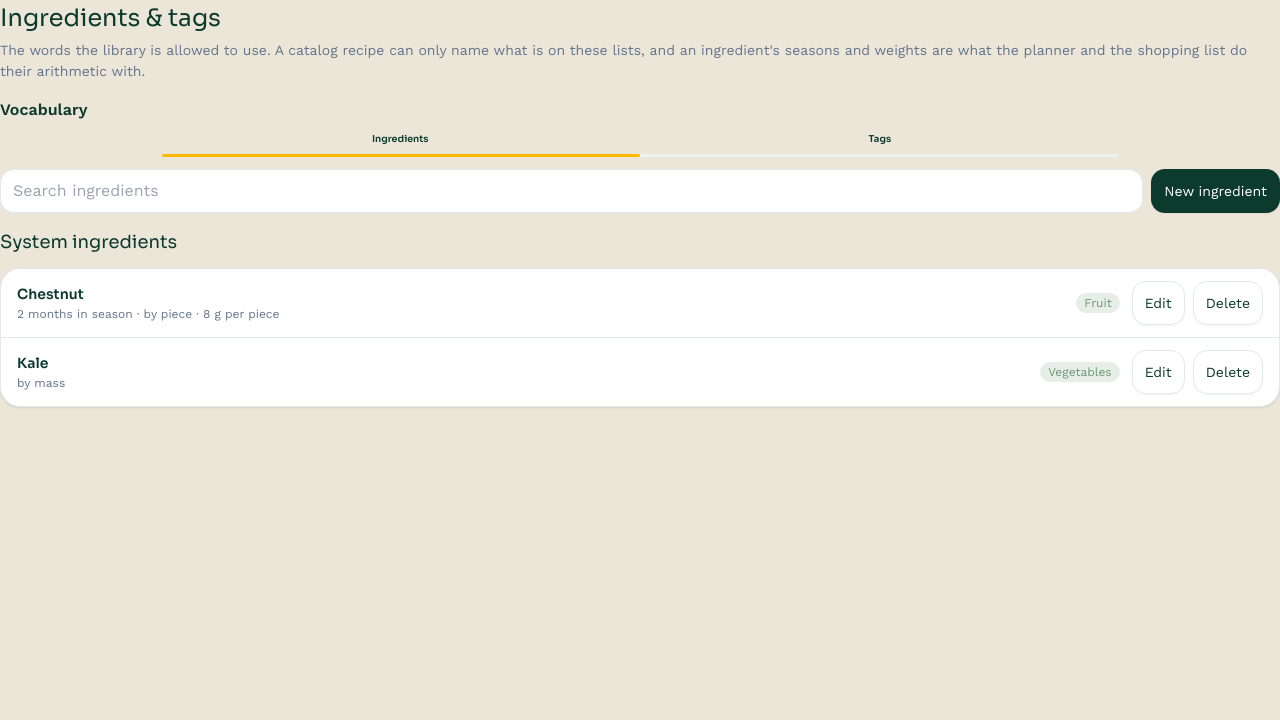
Scenario: an in-use ingredient the server refuses reports the reason it gave
Check: the text "Chestnut" is shown, box x1=17 y1=285 x2=84 y2=303
What coordinates should you click on to do the following:
click the button "Delete" in the row of "Chestnut"
I would click on:
 (1228, 303)
Its box is x1=1193 y1=281 x2=1263 y2=325.
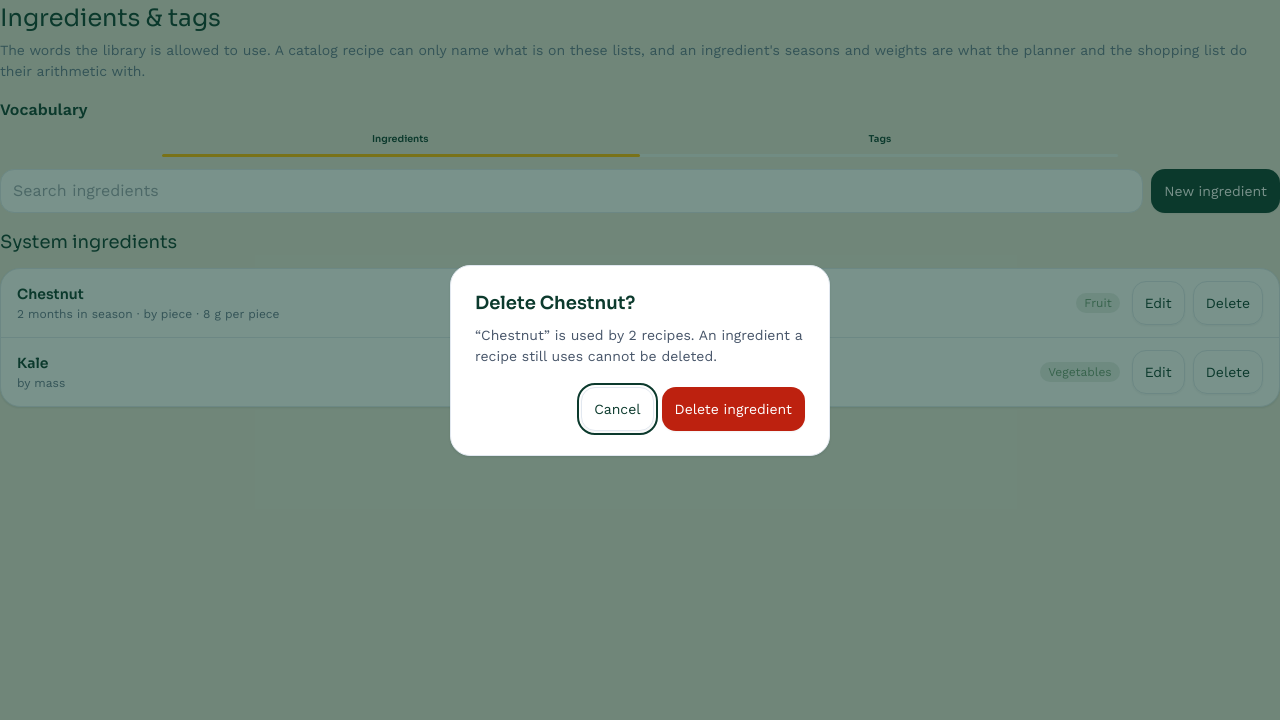
What coordinates should you click on to do the following:
click the button "Delete ingredient"
I would click on:
 (733, 408)
Its box is x1=662 y1=386 x2=805 y2=430.
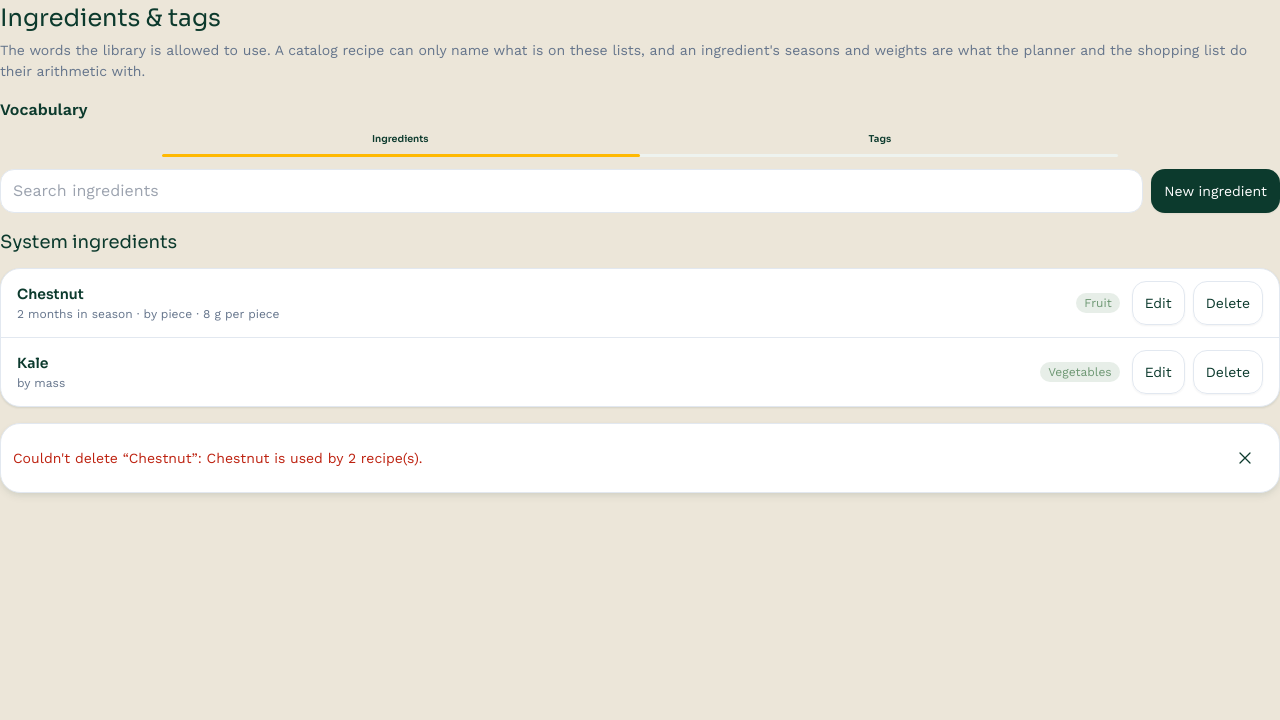
Check: the message shows "Chestnut is used by 2 recipe(s)", box x1=13 y1=450 x2=422 y2=466
